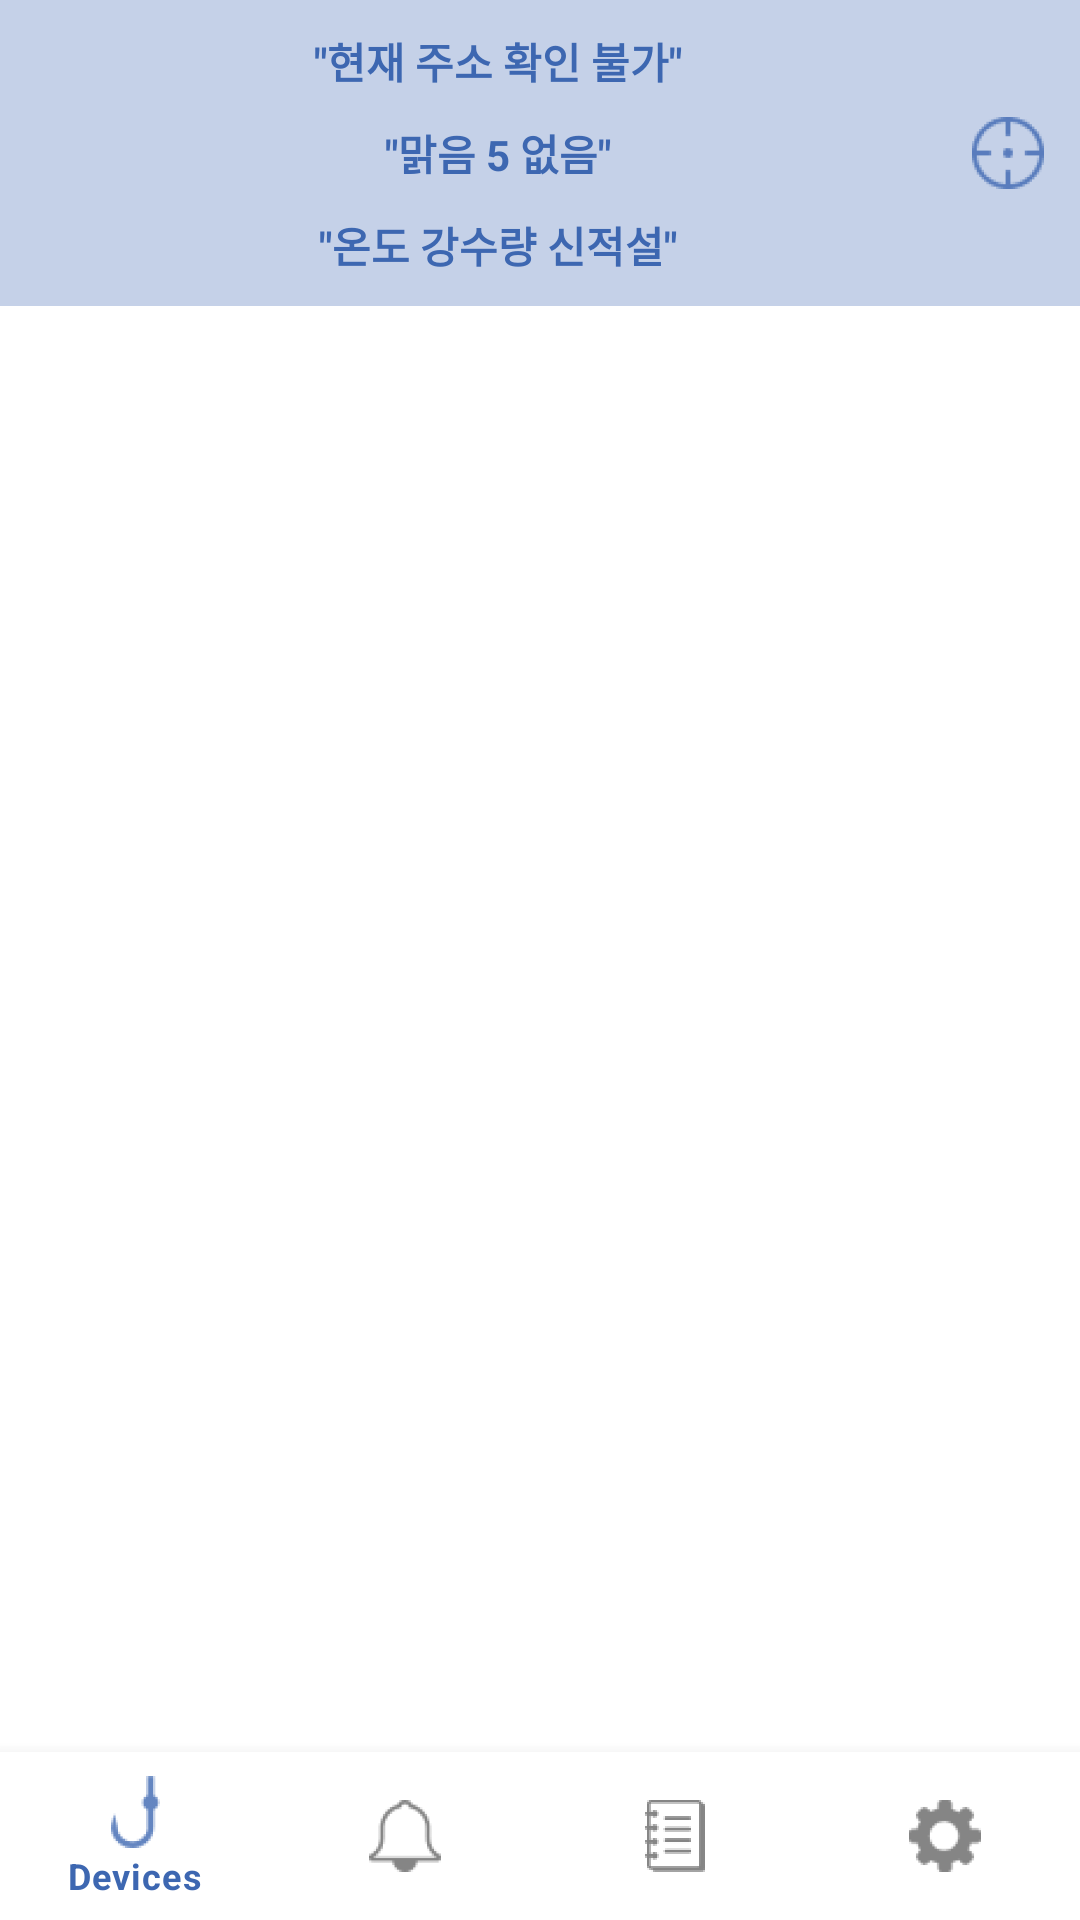

Icon click points for this 1080px×1920px phone screenshot, format [x,y]:
location: [1008,153]
